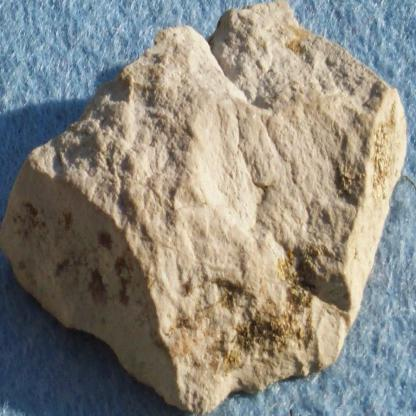Sedimentary_Limestone: (1, 0, 409, 415)
